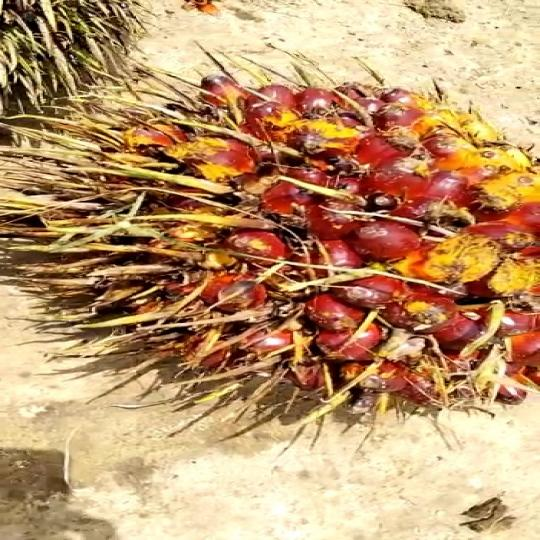masak: (10, 63, 540, 409)
